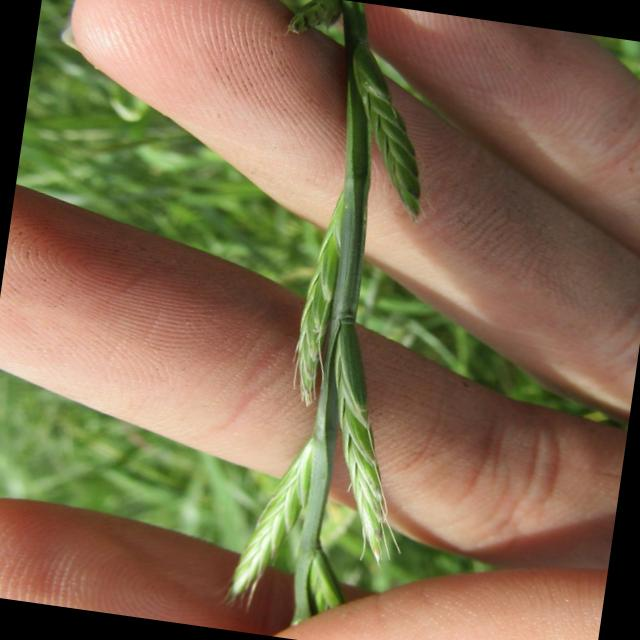Lolium: (212, 0, 480, 639)
